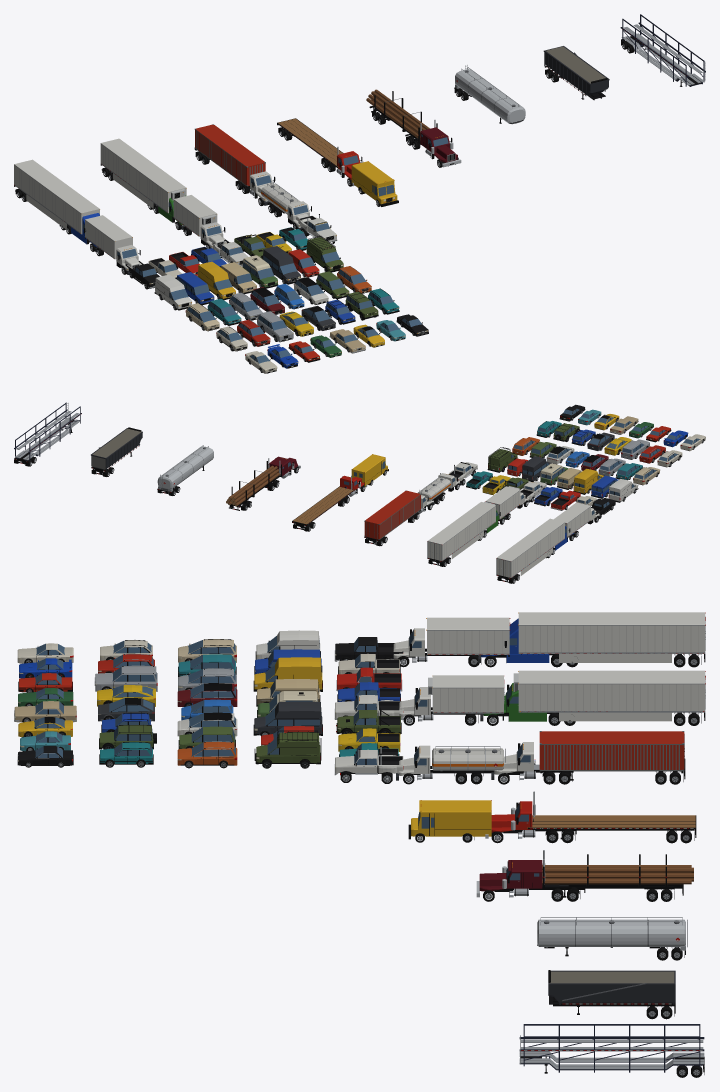
The model's file is vehicles.glb.
The picture shows the model from 3 angles, top to bottom: view 1: azimuth 30°, elevation 25°; view 2: azimuth 150°, elevation 25°; view 3: azimuth 270°, elevation 25°; orthographic projection. The views are drawn at different scales.
Visible parts, largest first — view 1: trailer_reefer_fixed, trailer_van_fixed, trailer_container_body, trailer_tank_fixed, trailer_carhauler_fixed, truck_box_fixed, truck_reefer_fixed, trailer_logs_fixed, trailer_flatbed_fixed, trailer_carhauler_body, truck_step_body, trailer_dump_fixed (+10 smaller); view 2: trailer_reefer_fixed, trailer_van_fixed, trailer_container_body, trailer_tank_fixed, trailer_carhauler_fixed, trailer_logs_fixed, trailer_flatbed_fixed, truck_box_fixed, truck_reefer_fixed, trailer_carhauler_body, trailer_dump_fixed, truck_step_body (+11 smaller); view 3: trailer_reefer_fixed, trailer_van_fixed, trailer_container_body, trailer_tank_fixed, trailer_logs_fixed, trailer_carhauler_fixed, truck_box_fixed, truck_reefer_fixed, trailer_flatbed_fixed, trailer_carhauler_body, trailer_dump_body, truck_step_body (+22 smaller).
Part boxes in pixels (left/top/right/bottom): trailer_reefer_fixed: left=100, top=138, right=186, bottom=213; trailer_van_fixed: left=14, top=159, right=99, bottom=234; trailer_container_body: left=195, top=124, right=265, bottom=185; trailer_tank_fixed: left=454, top=65, right=525, bottom=124; trailer_carhauler_fixed: left=621, top=24, right=705, bottom=86; truck_box_fixed: left=85, top=215, right=140, bottom=274; truck_reefer_fixed: left=173, top=195, right=225, bottom=248; trailer_logs_fixed: left=366, top=89, right=437, bottom=143; trailer_flatbed_fixed: left=277, top=118, right=343, bottom=167; trailer_carhauler_body: left=620, top=14, right=705, bottom=86; truck_step_body: left=351, top=161, right=397, bottom=204; trailer_dump_fixed: left=544, top=46, right=607, bottom=100; trailer_reefer_fixed: left=427, top=501, right=495, bottom=566; trailer_van_fixed: left=496, top=518, right=564, bottom=583; trailer_container_body: left=364, top=490, right=420, bottom=539; trailer_tank_fixed: left=157, top=445, right=213, bottom=495; trailer_carhauler_fixed: left=14, top=402, right=80, bottom=466; trailer_logs_fixed: left=226, top=461, right=282, bottom=510; trailer_flatbed_fixed: left=292, top=486, right=355, bottom=531; truck_box_fixed: left=554, top=502, right=601, bottom=538; truck_reefer_fixed: left=486, top=486, right=530, bottom=523; trailer_carhauler_body: left=14, top=403, right=81, bottom=460; trailer_dump_fixed: left=91, top=427, right=141, bottom=476; truck_step_body: left=351, top=454, right=387, bottom=486; trailer_reefer_fixed: left=513, top=670, right=705, bottom=725; trailer_van_fixed: left=518, top=612, right=705, bottom=667; trailer_container_body: left=539, top=731, right=684, bottom=769; trailer_tank_fixed: left=537, top=917, right=687, bottom=960; trailer_logs_fixed: left=542, top=854, right=693, bottom=901; trailer_carhauler_fixed: left=519, top=1035, right=704, bottom=1077; truck_box_fixed: left=390, top=617, right=509, bottom=667; truck_reefer_fixed: left=403, top=675, right=504, bottom=725; trailer_flatbed_fixed: left=527, top=815, right=696, bottom=843; trailer_carhauler_body: left=519, top=1024, right=704, bottom=1072; trailer_dump_body: left=548, top=970, right=675, bottom=1004; truck_step_body: left=411, top=800, right=491, bottom=836.
Size of the model in its own units: 86.82 by 4.1 by 59.86.
